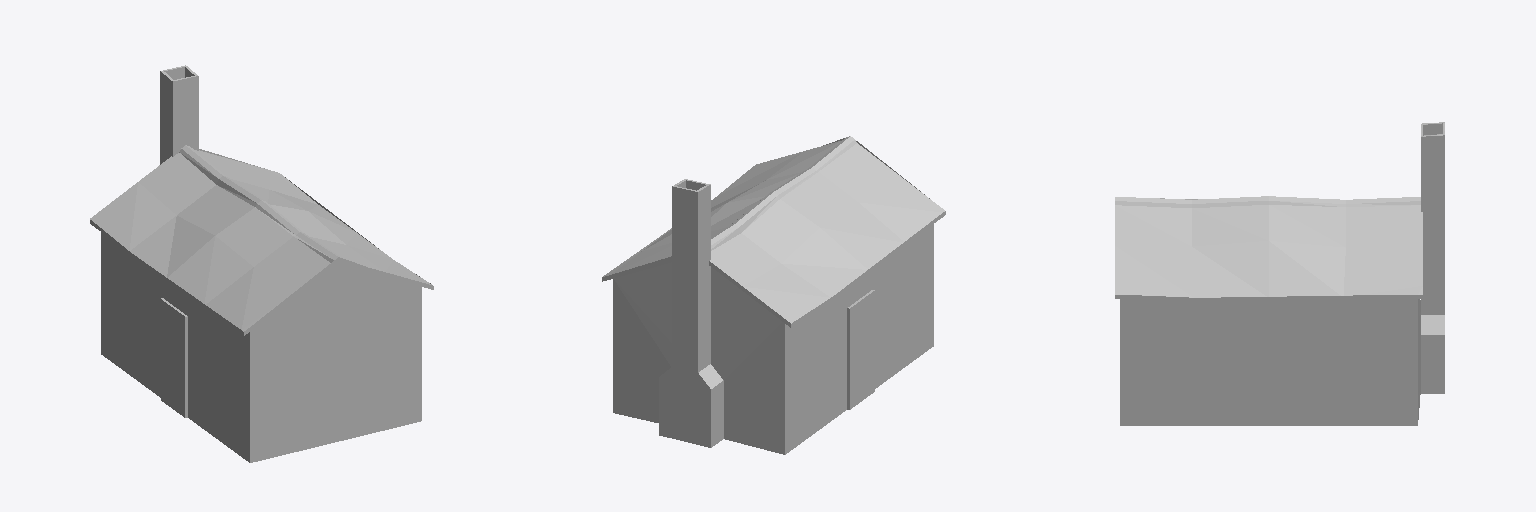
Rendered from medieval_house_1_001.obj.
The picture shows the model from 3 angles: view 1: azimuth 30°, elevation 25°; view 2: azimuth 150°, elevation 25°; view 3: azimuth 270°, elevation 25°; orthographic projection.
Visible parts, largest first — view 1: Cube; view 2: Cube; view 3: Cube.
Boxes of the visible parts, box(x1,y1,x2,y2) form: Cube: box(90, 65, 433, 462); Cube: box(602, 136, 945, 454); Cube: box(1115, 122, 1444, 425).
Bounding box in the file's own units: 4.4 × 5.66 × 6.65.